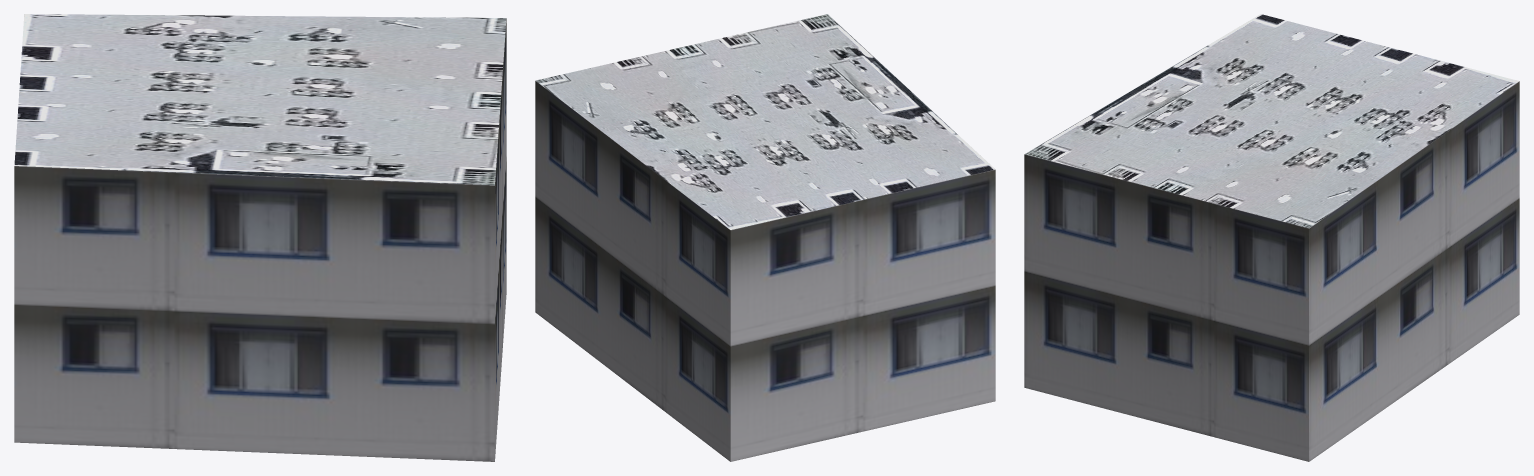
Rendered from ResTex__4420.fbx.
3 views of the same model, side by side, from view 1: azimuth 30°, elevation 25°; view 2: azimuth 150°, elevation 25°; view 3: azimuth 270°, elevation 25° (orthographic). The views are drawn at different scales.
Parts seen in each view (by area): view 1: CityEngineMaterial_9_m, CityEngineMaterial_4_m; view 2: CityEngineMaterial_9_m, CityEngineMaterial_4_m; view 3: CityEngineMaterial_9_m, CityEngineMaterial_4_m.
Boxes of the visible parts, x1,y1,x2,y2 form: CityEngineMaterial_9_m: [14, 18, 506, 461]; CityEngineMaterial_4_m: [14, 14, 506, 185]; CityEngineMaterial_9_m: [535, 81, 995, 461]; CityEngineMaterial_4_m: [535, 14, 995, 229]; CityEngineMaterial_9_m: [1024, 81, 1519, 461]; CityEngineMaterial_4_m: [1025, 14, 1519, 228].
Bounding box in the file's own units: 11.82 × 6 × 11.53.
Materials: 2 (2 with a texture image).
